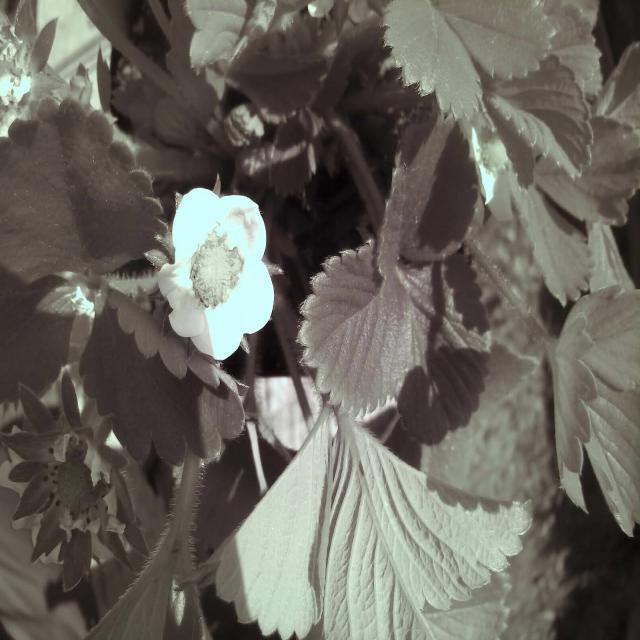flower: (156, 169, 284, 369)
